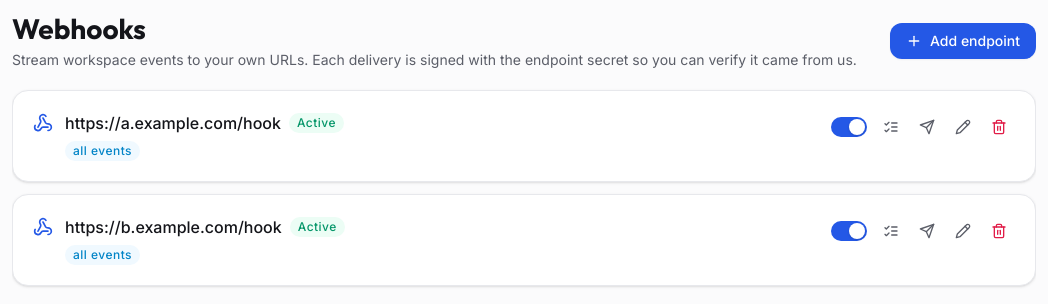
Scenario: WebhooksPage — per-row mutation loading (no cross-row bleed) › toggling one endpoint only disables that endpoint's switch
Click the switch named "Enable endpoint" in the row of "https://a.example.com/hook".
click(849, 127)  # box [831,117,867,137]
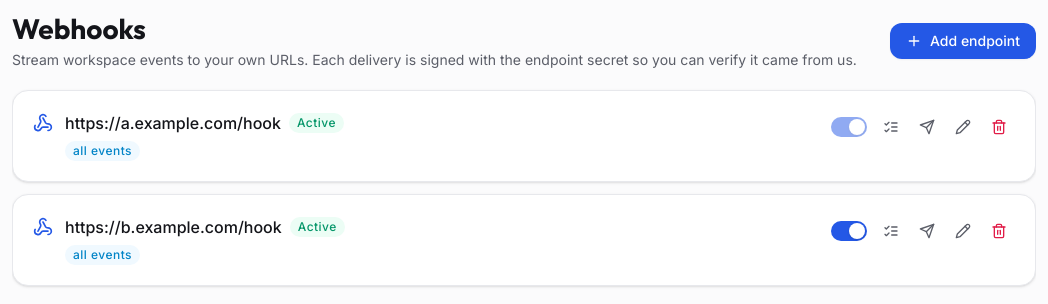
Expected: the switch named "Enable endpoint" in the row of "https://b.example.com/hook" is enabled, [831,221,867,241]
Expected: the switch named "Enable endpoint" in the row of "https://a.example.com/hook" is disabled, [831,117,867,137]
